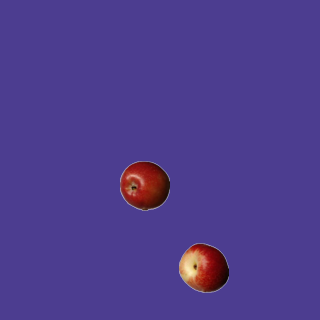Apple Braeburn: (119, 160, 169, 210)
Nectarine: (178, 242, 228, 292)
